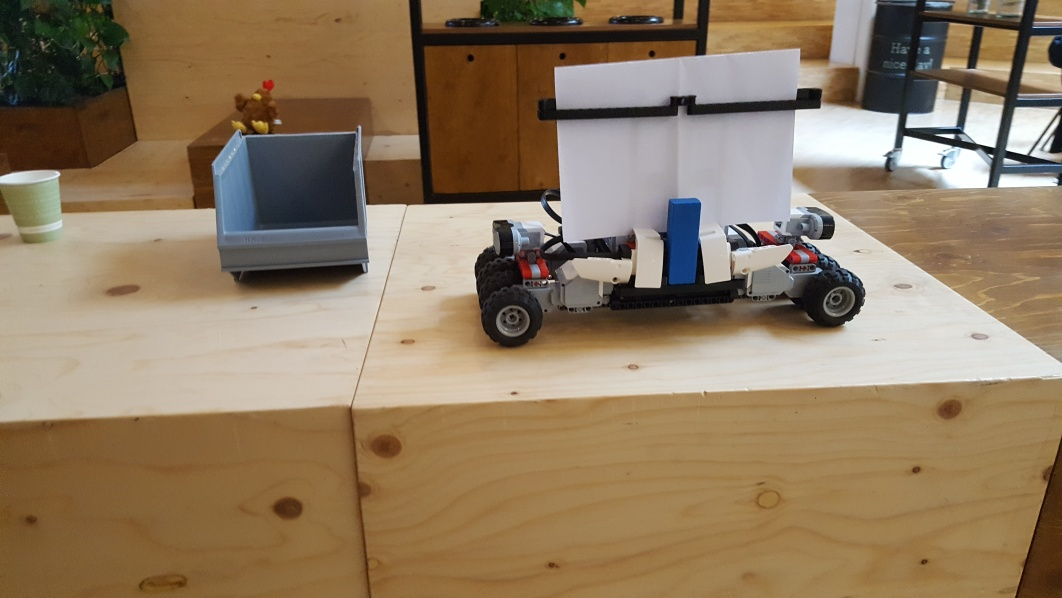beam: (665, 197, 700, 288)
chicken: (229, 78, 283, 135)
cup: (1, 167, 66, 246)
tray: (213, 126, 372, 281)
